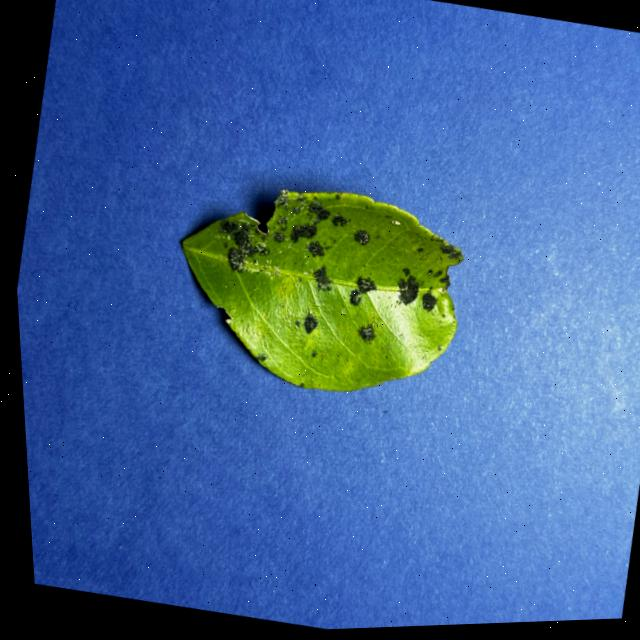sooty_mold: (183, 189, 463, 390)
